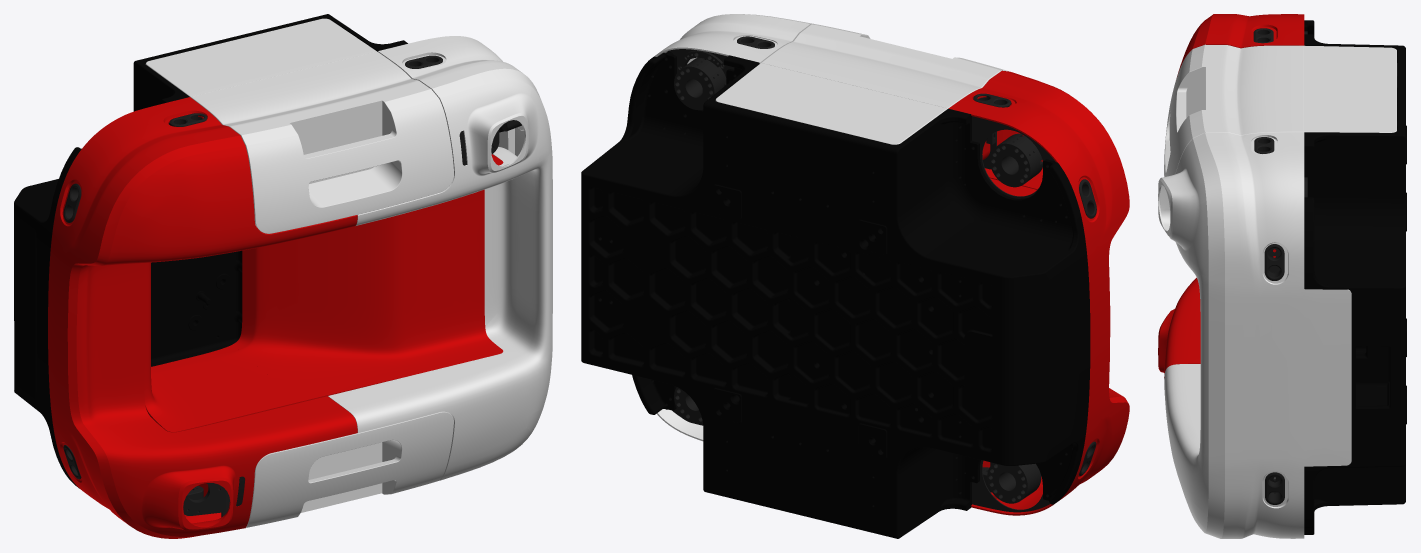
3 views of the same model, side by side, from view 1: azimuth 30°, elevation 25°; view 2: azimuth 150°, elevation 25°; view 3: azimuth 270°, elevation 25° (orthographic). The views are drawn at different scales.
Parts seen in each view (by area): view 1: WRAB0100000; view 2: WRAB0100000; view 3: WRAB0100000.
Part boxes in pixels (x1,y1,x2,y2): WRAB0100000: [14, 14, 552, 538]; WRAB0100000: [581, 14, 1129, 538]; WRAB0100000: [1158, 14, 1406, 538].
Size of the model in its own units: 0.6695 by 0.5477 by 0.331.
